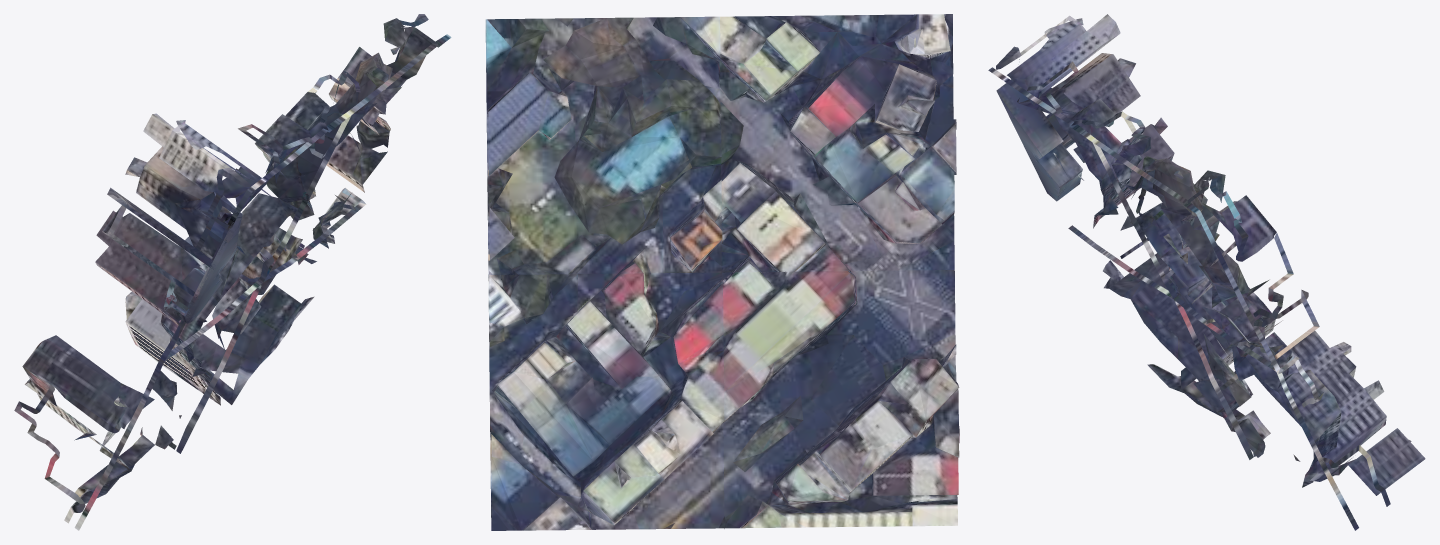
The picture shows the model from 3 angles, left to right: view 1: azimuth 30°, elevation 25°; view 2: azimuth 150°, elevation 25°; view 3: azimuth 270°, elevation 25°; orthographic projection. The views are drawn at different scales.
Bounding box in the file's own units: 165 × 153 × 152.
2 materials, 2 textured.
